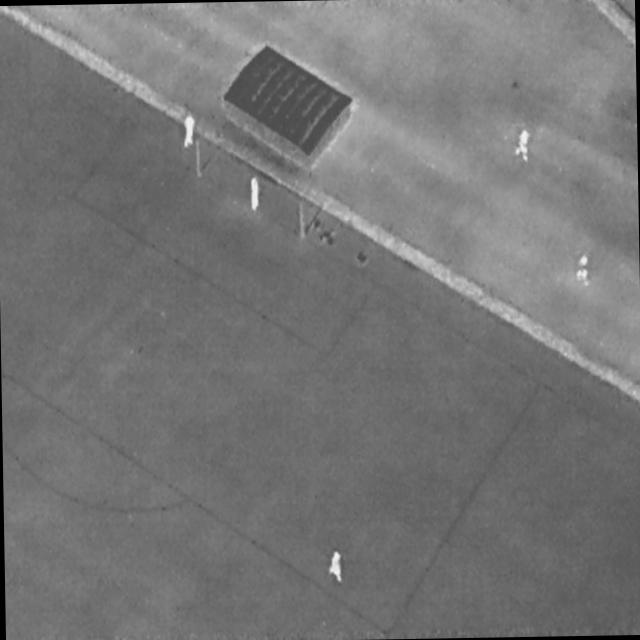person: (514, 126, 533, 164), (327, 548, 346, 583), (249, 175, 263, 214), (576, 252, 591, 287), (183, 112, 196, 150)
